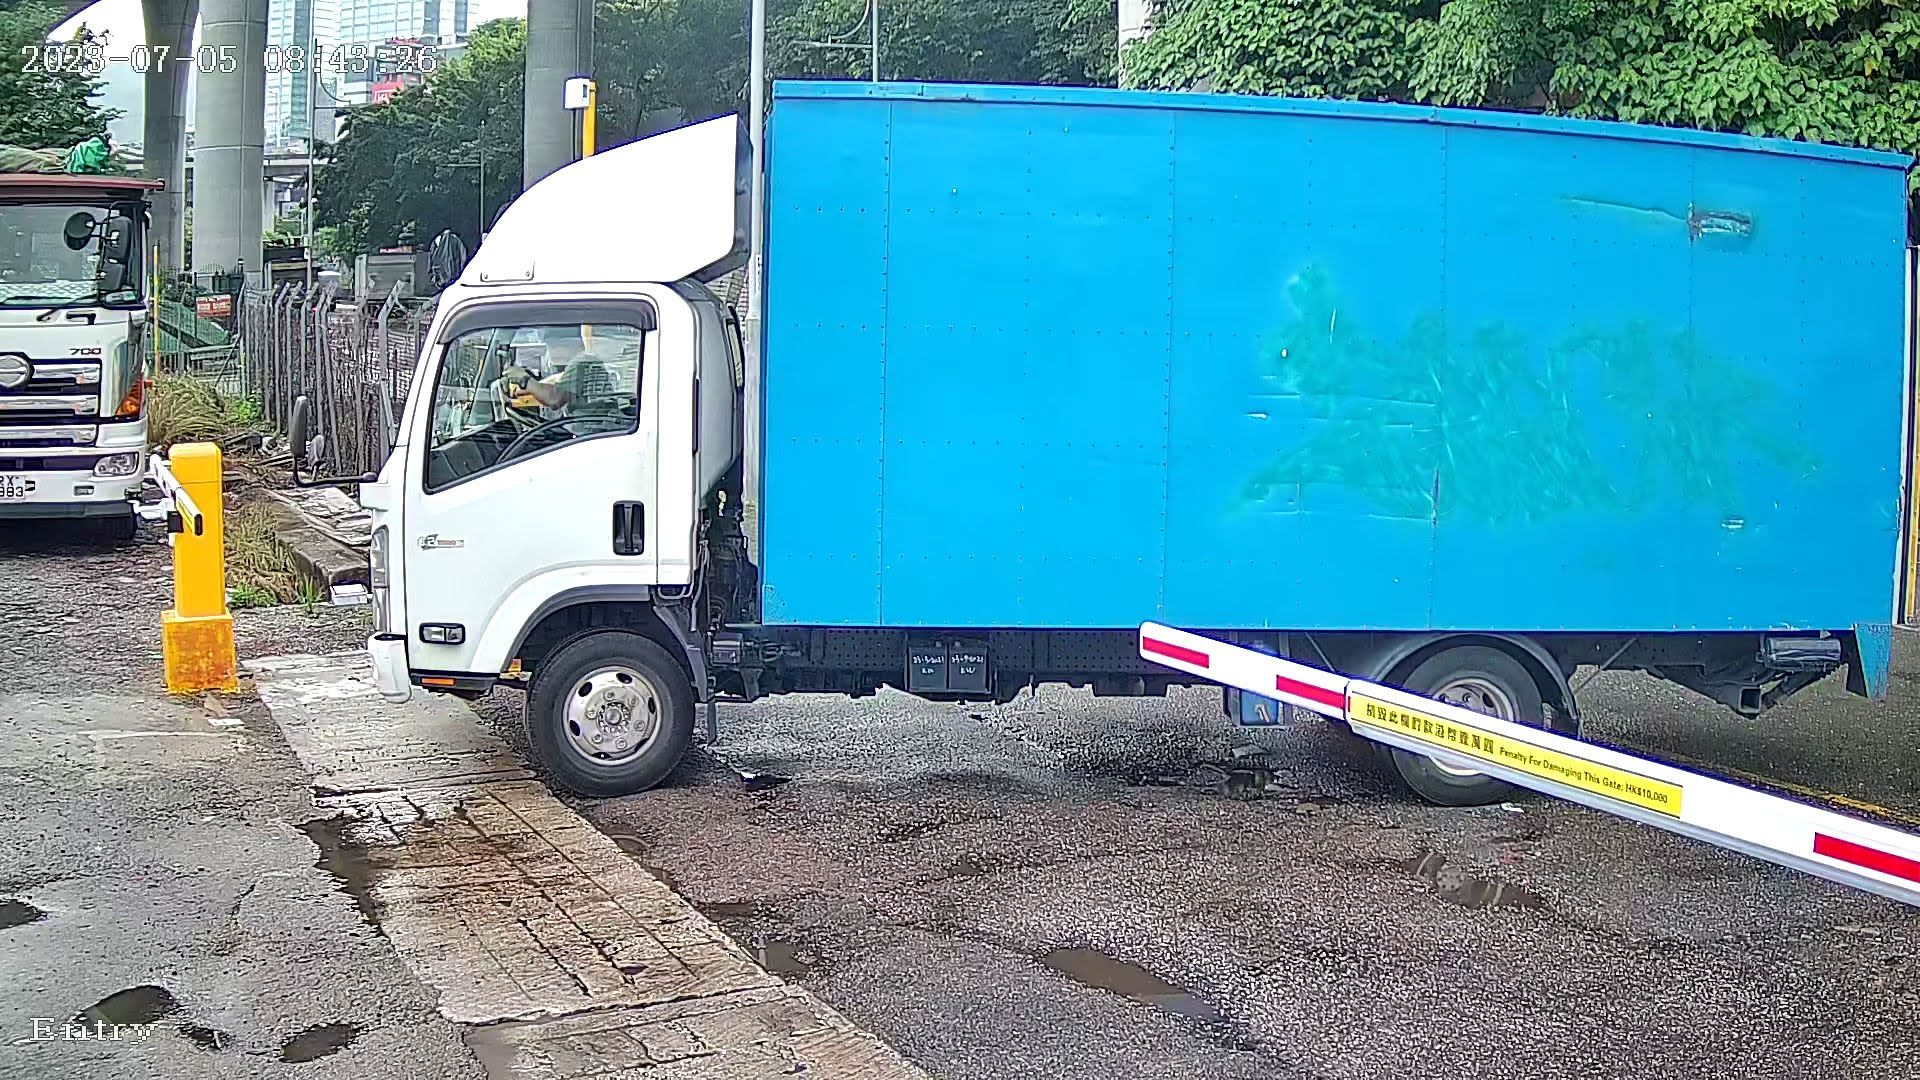truck_large: (363, 34, 1920, 810)
